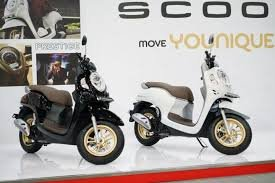motor: (130, 50, 265, 162), (21, 57, 124, 171)
